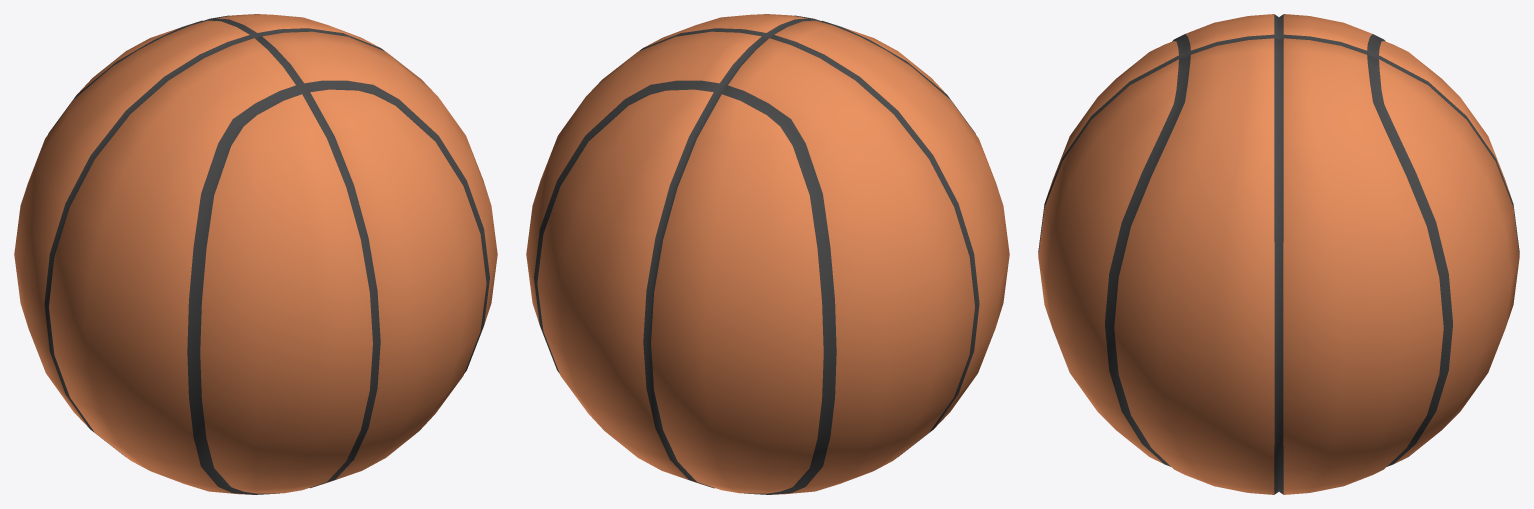
Rendered from ball2.glb.
The picture shows the model from 3 angles, left to right: view 1: azimuth 30°, elevation 25°; view 2: azimuth 150°, elevation 25°; view 3: azimuth 270°, elevation 25°; orthographic projection.
Visible parts, largest first — view 1: Basketball; view 2: Basketball; view 3: Basketball.
Boxes of the visible parts, <box> form: Basketball: <box>14,14,497,494</box>; Basketball: <box>526,14,1009,494</box>; Basketball: <box>1038,14,1519,494</box>.
Size of the model in its own units: 0.9872 by 0.9865 by 0.9872.
